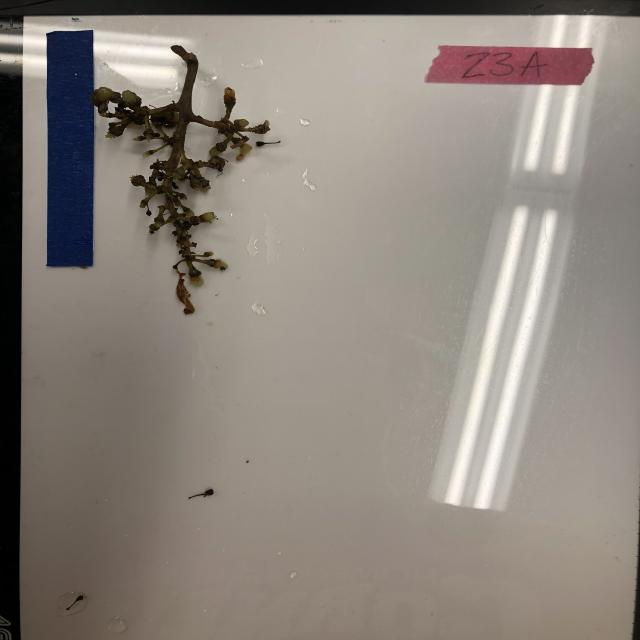index: (426, 43, 596, 87)
measure_label: (46, 29, 95, 268)
rachis_cluster: (93, 42, 281, 314)
